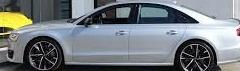Cars: (8, 2, 240, 71)
